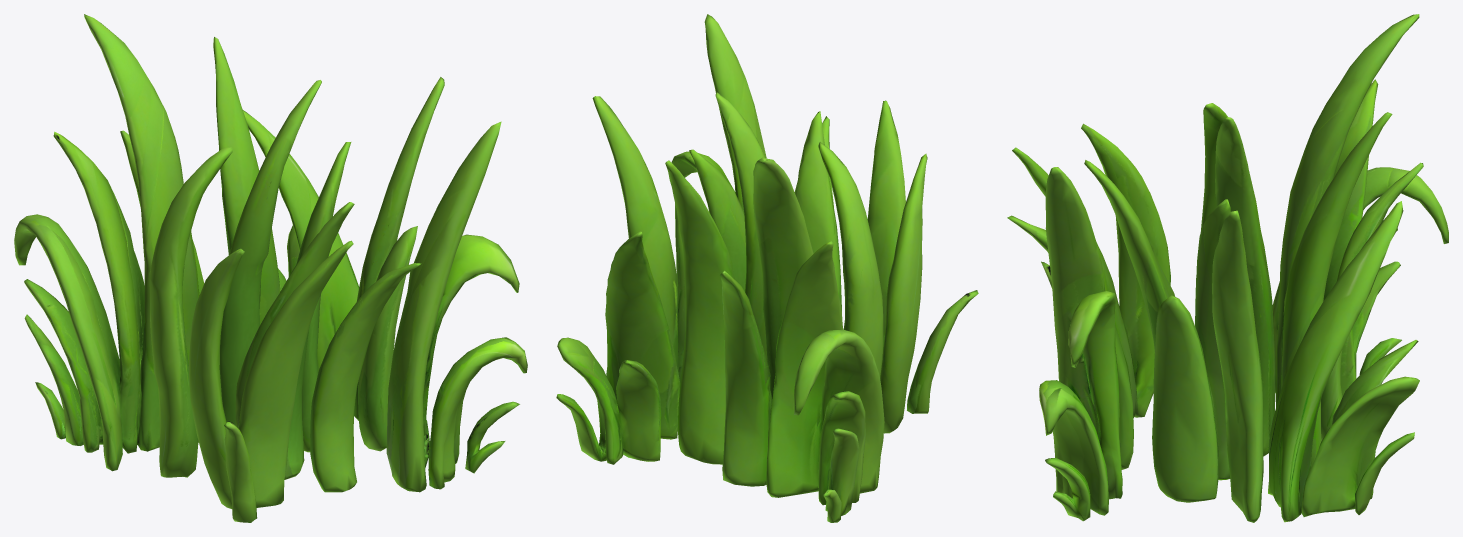
Rendered from Grass1.glb.
The picture shows the model from 3 angles, left to right: view 1: azimuth 30°, elevation 25°; view 2: azimuth 150°, elevation 25°; view 3: azimuth 270°, elevation 25°; orthographic projection. The views are drawn at different scales.
Bounding box in the file's own units: 1.81 × 1.98 × 1.99.
Materials: 1 (1 with a texture image).
